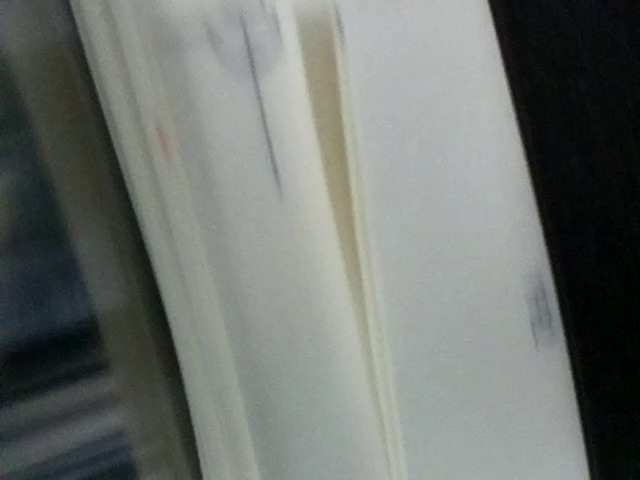not_sure: (198, 1, 296, 84)
